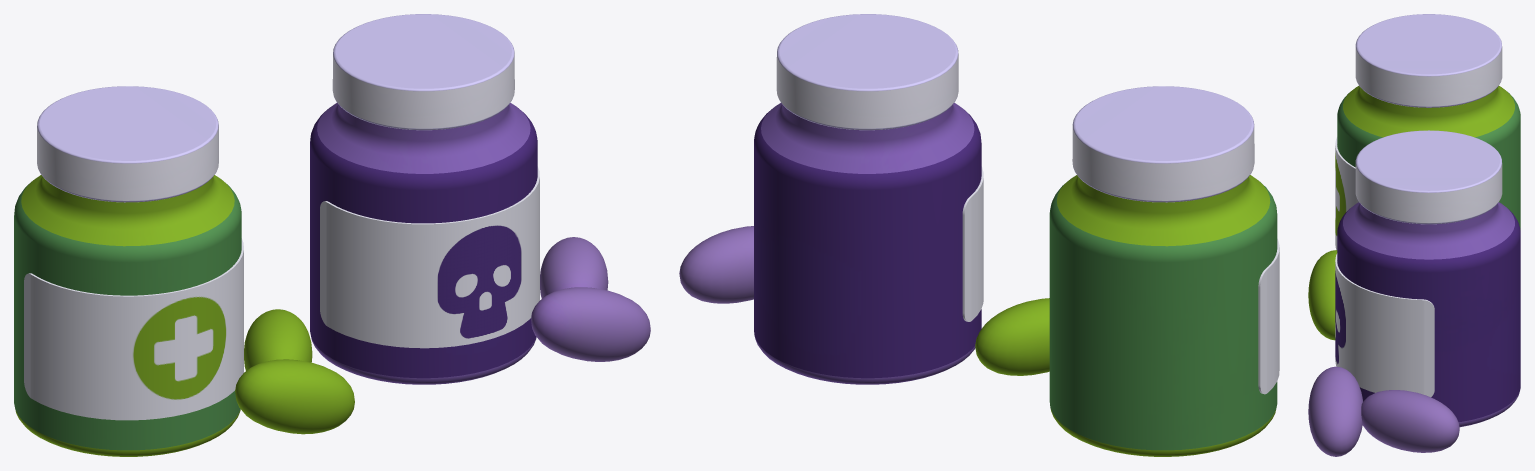
The model's file is Helath&Poison.fbx.
The picture shows the model from 3 angles, left to right: view 1: azimuth 30°, elevation 25°; view 2: azimuth 150°, elevation 25°; view 3: azimuth 270°, elevation 25°; orthographic projection. The views are drawn at different scales.
Visible parts, largest first — view 1: Death_Bottle, Health_Bottle, Health_Pill, Death_Pill, Death_Pill1, Health_Pill1; view 2: Health_Bottle, Death_Bottle, Health_Pill1, Death_Pill1; view 3: Death_Bottle, Health_Bottle, Death_Pill1, Death_Pill, Health_Pill.
Boxes of the visible parts, <box> form: Death_Bottle: <box>310,14,539,384</box>; Health_Bottle: <box>14,86,243,456</box>; Health_Pill: <box>235,359,354,434</box>; Death_Pill: <box>531,287,650,361</box>; Death_Pill1: <box>540,237,608,298</box>; Health_Pill1: <box>244,309,312,370</box>; Health_Bottle: <box>1049,86,1279,456</box>; Death_Bottle: <box>754,14,983,384</box>; Health_Pill1: <box>975,298,1049,375</box>; Death_Pill1: <box>679,226,753,303</box>; Death_Bottle: <box>1335,130,1520,427</box>; Health_Bottle: <box>1335,14,1520,249</box>; Death_Pill1: <box>1361,390,1459,452</box>; Death_Pill: <box>1308,366,1362,456</box>; Health_Pill: <box>1308,250,1337,340</box>.
Bounding box in the file's own units: 29.14 × 14.36 × 11.56.
Materials: 1 (1 with a texture image).
